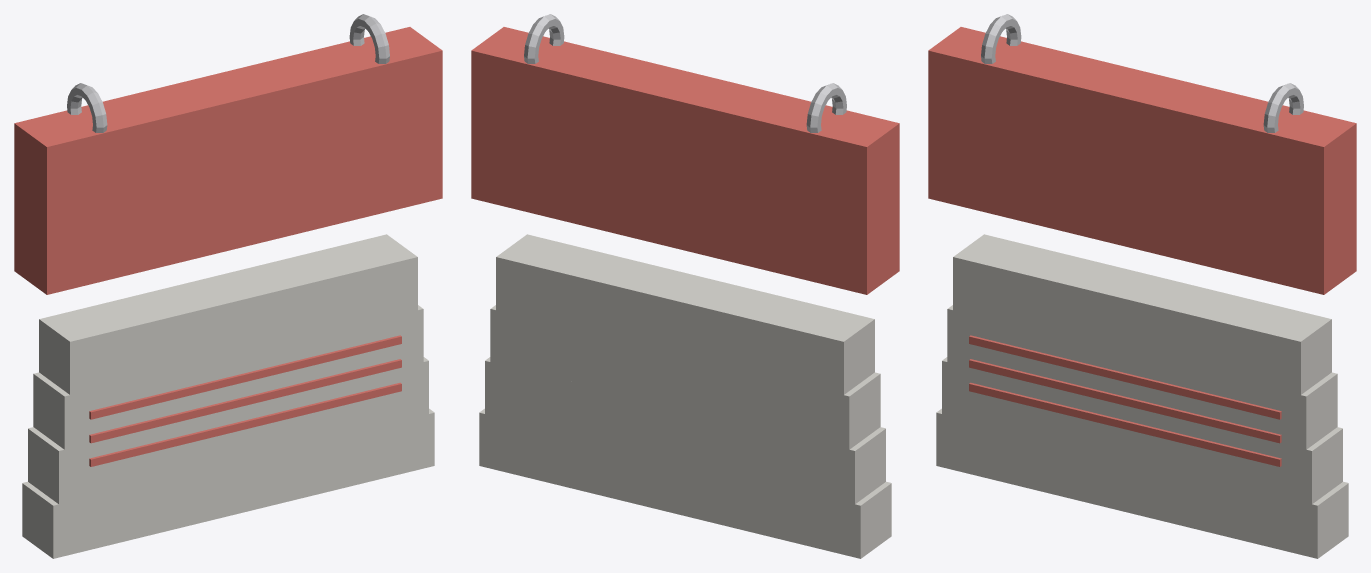
The model's file is item_50_calendar.glb.
3 views of the same model, side by side, from view 1: azimuth 30°, elevation 25°; view 2: azimuth 150°, elevation 25°; view 3: azimuth 330°, elevation 25° (orthographic).
Parts seen in each view (by area): view 1: I50_Header, I50_Page3, I50_Page0, I50_Page1, I50_Page2, I50_Line2, I50_Line0, I50_Line1, I50_Wire0, I50_Wire1; view 2: I50_Header, I50_Page3, I50_Page0, I50_Page1, I50_Page2, I50_Wire0, I50_Wire1; view 3: I50_Header, I50_Page3, I50_Page0, I50_Page1, I50_Page2, I50_Line2, I50_Line0, I50_Line1, I50_Wire1, I50_Wire0.
Part boxes in pixels (x1,y1,x2,y2): I50_Header: (14, 27, 442, 294); I50_Page3: (39, 234, 417, 394); I50_Page0: (22, 408, 434, 558); I50_Page1: (28, 357, 428, 504); I50_Page2: (33, 305, 423, 449); I50_Line2: (89, 335, 401, 419); I50_Line0: (89, 382, 401, 466); I50_Line1: (89, 359, 401, 443); I50_Wire0: (67, 83, 107, 132); I50_Wire1: (349, 14, 389, 63); I50_Header: (471, 27, 899, 294); I50_Page3: (496, 234, 874, 394); I50_Page0: (479, 408, 891, 558); I50_Page1: (485, 357, 885, 504); I50_Page2: (490, 305, 880, 449); I50_Wire0: (806, 83, 846, 132); I50_Wire1: (524, 14, 564, 63); I50_Header: (928, 27, 1356, 294); I50_Page3: (953, 234, 1331, 394); I50_Page0: (936, 408, 1348, 558); I50_Page1: (942, 357, 1342, 504); I50_Page2: (947, 305, 1337, 449); I50_Line2: (969, 335, 1281, 419); I50_Line0: (969, 382, 1281, 466); I50_Line1: (969, 359, 1281, 443); I50_Wire1: (1263, 83, 1303, 132); I50_Wire0: (981, 14, 1021, 63).
Bounding box in the file's own units: 0.14 × 0.1522 × 0.0212.
